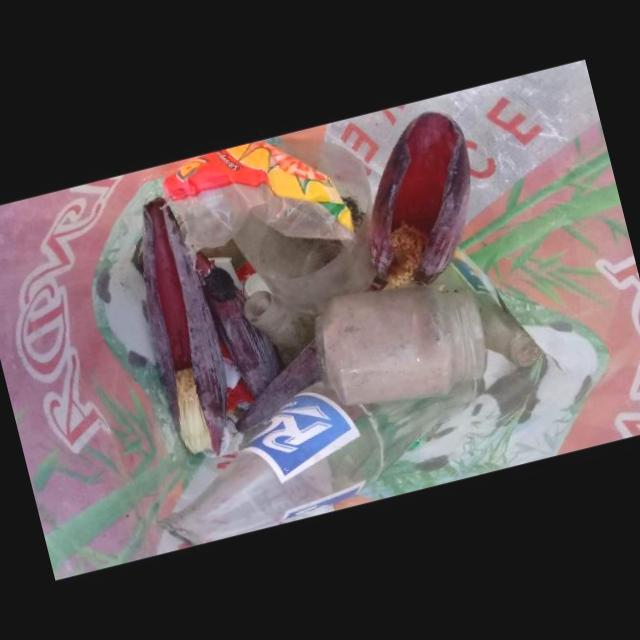bao_bi_thuc_pham: (162, 140, 355, 248)
chai_thuy_tinh: (157, 379, 485, 547), (314, 285, 487, 406), (450, 258, 541, 367), (243, 290, 317, 367)
vo_rau_cu: (141, 196, 226, 455), (366, 110, 471, 291), (195, 253, 281, 398), (235, 339, 321, 433)
